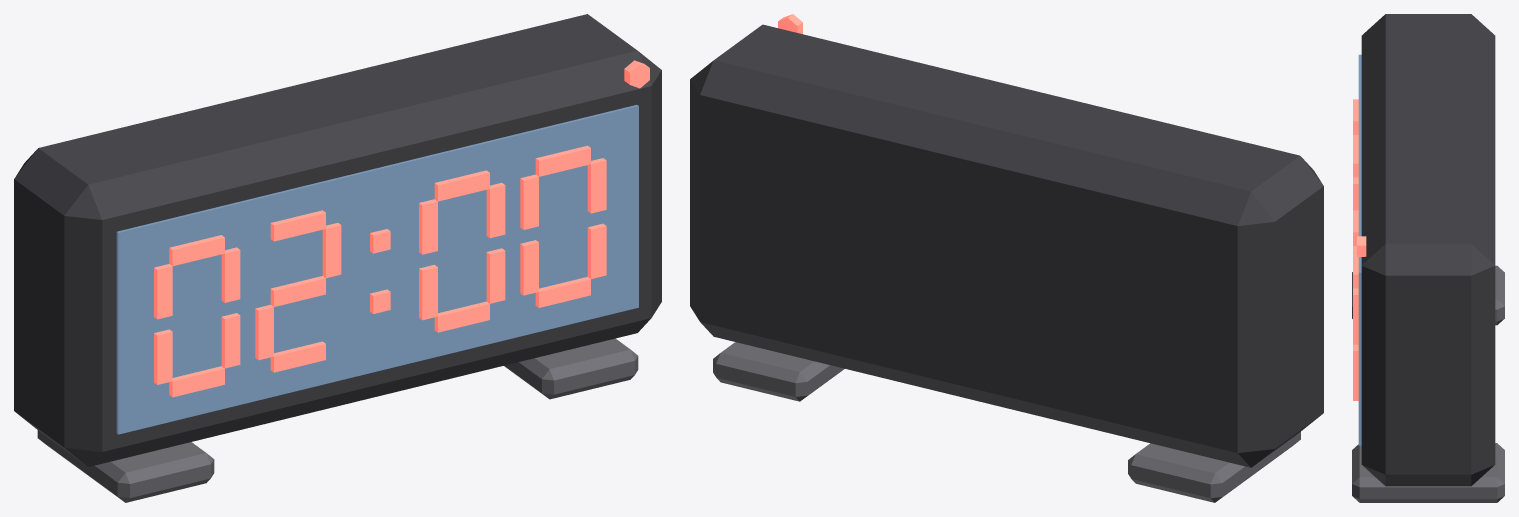
The model's file is prop_debate_timer_01.glb.
3 renders of one model, left to right at view 1: azimuth 30°, elevation 25°; view 2: azimuth 150°, elevation 25°; view 3: azimuth 270°, elevation 25°, orthographic. The views are drawn at different scales.
Parts seen in each view (by area): view 1: prop_debate_timer_01_body; view 2: prop_debate_timer_01_body; view 3: prop_debate_timer_01_body.
Part boxes in pixels (<box>): prop_debate_timer_01_body: <box>14,14,661,502</box>; prop_debate_timer_01_body: <box>690,14,1323,502</box>; prop_debate_timer_01_body: <box>1352,14,1504,502</box>.
Bounding box in the file's own units: 0.62 × 0.312 × 0.16.
